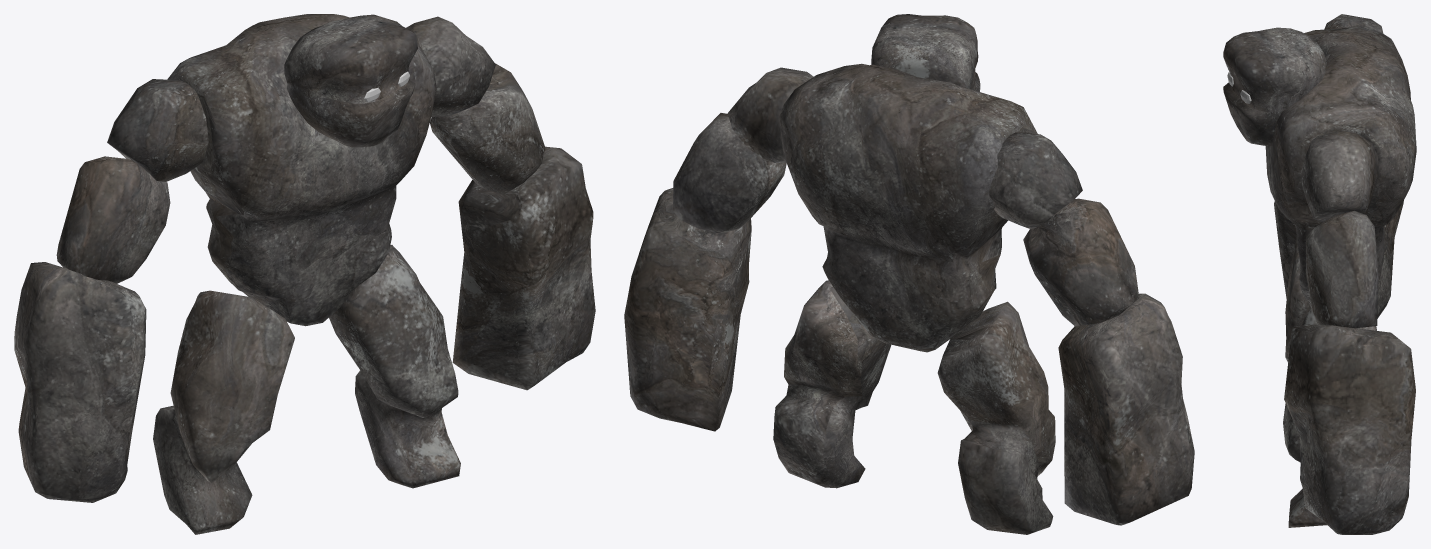
File: walk_000020.obj
3 renders of one model, left to right at view 1: azimuth 30°, elevation 25°; view 2: azimuth 150°, elevation 25°; view 3: azimuth 270°, elevation 25°, orthographic. The views are drawn at different scales.
Visible parts, largest first — view 1: hands&leg.001_ice.003, torso.001_ice.005, head.001_ice.004; view 2: hands&leg.001_ice.003, torso.001_ice.005, head.001_ice.004; view 3: hands&leg.001_ice.003, torso.001_ice.005, head.001_ice.004.
Boxes of the visible parts, x1,y1,x2,y2 form: hands&leg.001_ice.003: (14, 16, 595, 534); torso.001_ice.005: (167, 14, 436, 326); head.001_ice.004: (284, 16, 417, 147); hands&leg.001_ice.003: (624, 67, 1194, 534); torso.001_ice.005: (779, 63, 1037, 352); head.001_ice.004: (871, 14, 980, 91); hands&leg.001_ice.003: (1274, 14, 1415, 534); torso.001_ice.005: (1265, 25, 1416, 307); head.001_ice.004: (1223, 27, 1326, 146).
Bounding box in the file's own units: 11.9 × 9.58 × 3.79.
Materials: 2 (1 with a texture image).
